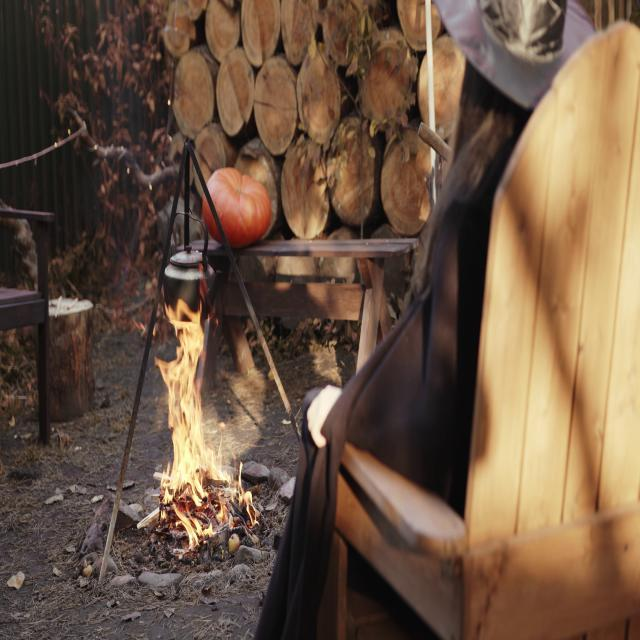Fire: (147, 290, 255, 528)
